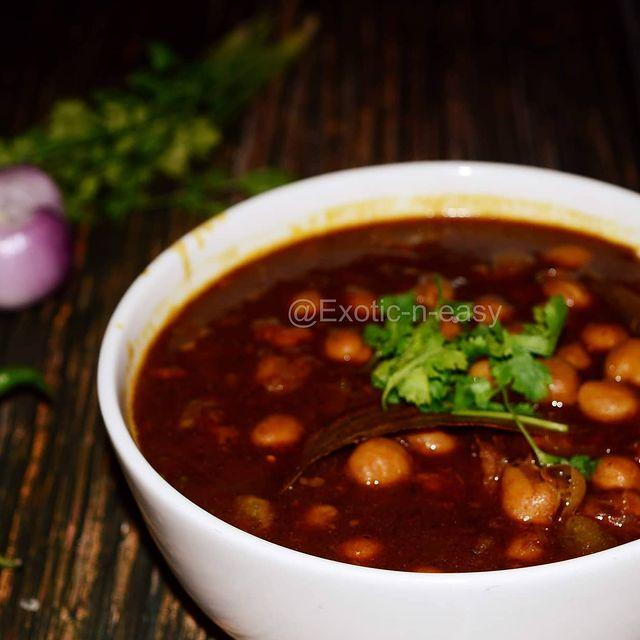Chole: (226, 332, 640, 576)
